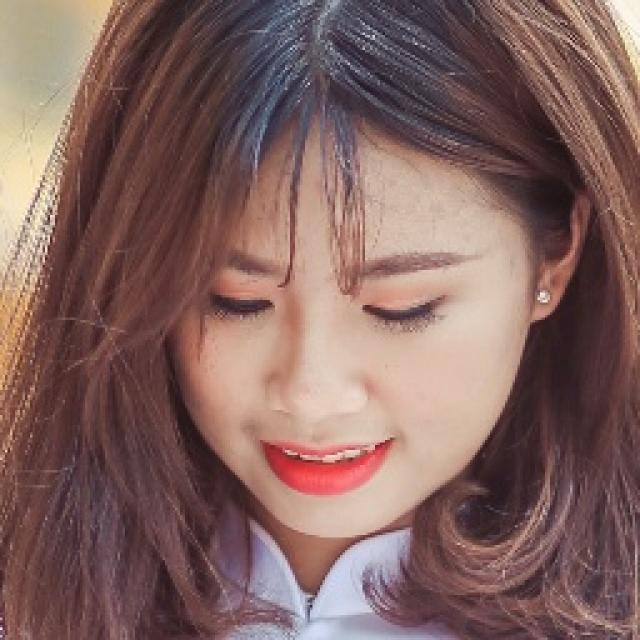earlobe: (532, 191, 592, 321)
